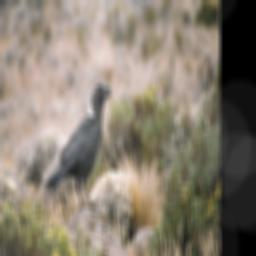Crow: (43, 79, 113, 213)
